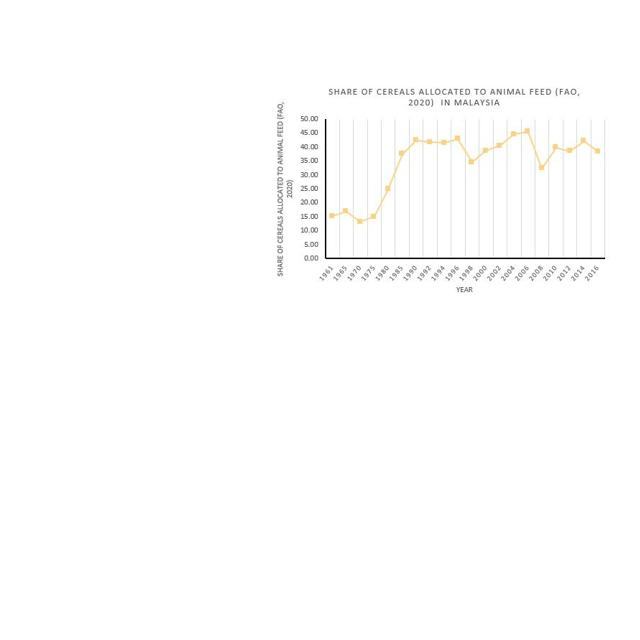Graph: (271, 81, 613, 295)
